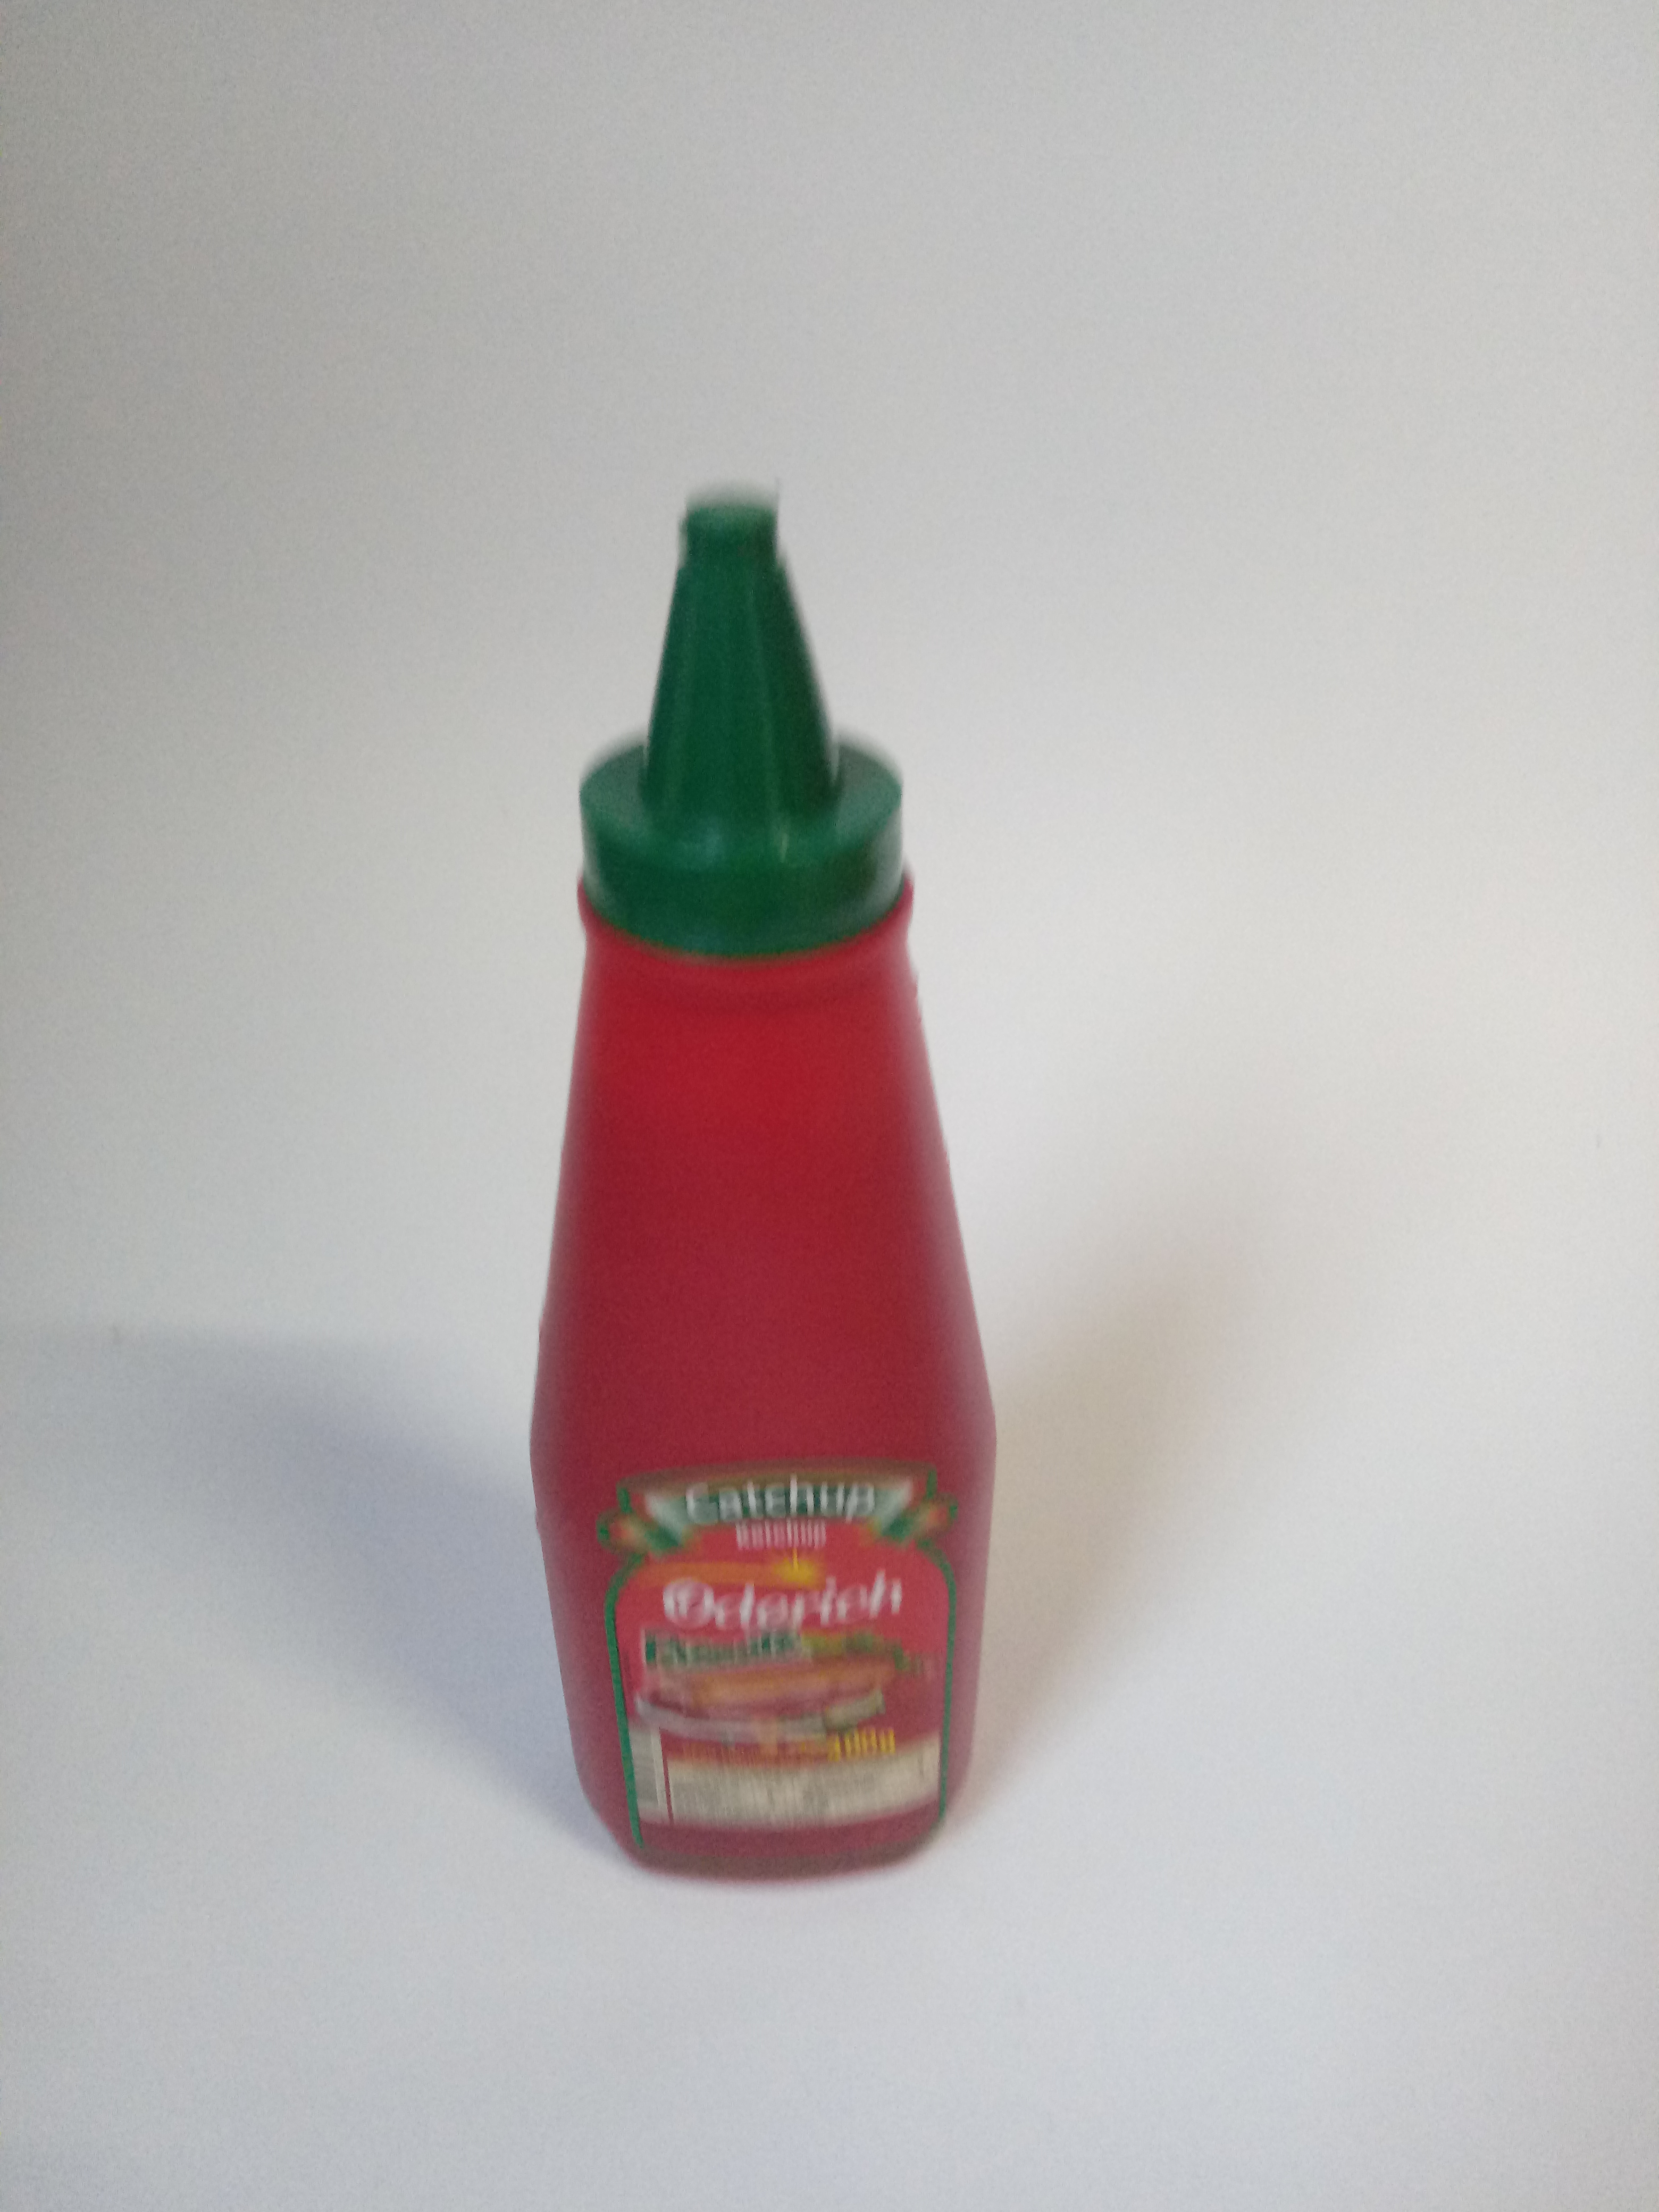catchup-oderich: (484, 462, 1002, 1892)
